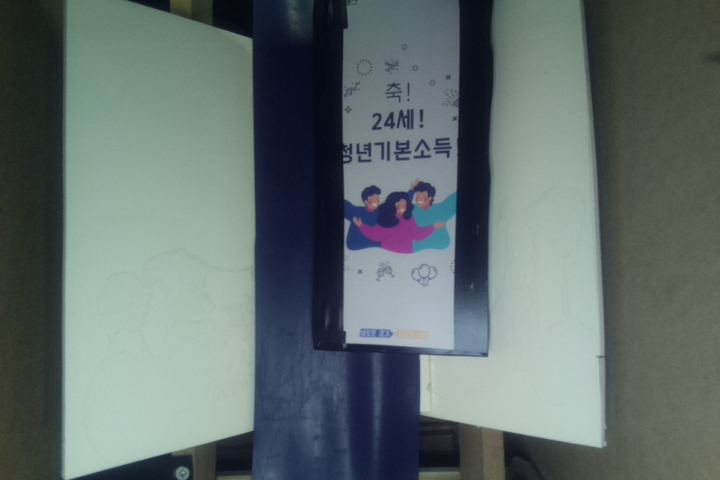book: (315, 1, 496, 357)
